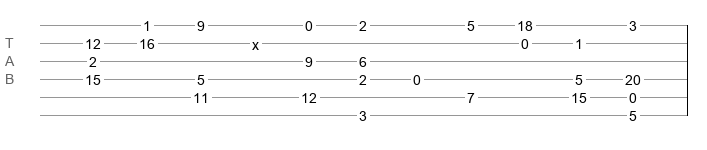0: (305, 18, 313, 28), (413, 72, 421, 82), (521, 36, 529, 46), (629, 90, 637, 100)
1: (143, 18, 151, 28), (575, 36, 583, 46)
11: (193, 90, 209, 100)
12: (85, 36, 101, 46), (301, 90, 317, 100)
15: (85, 72, 101, 82), (571, 90, 587, 100)
16: (139, 36, 155, 46)
18: (517, 18, 533, 28)
2: (89, 54, 97, 64), (359, 72, 367, 82), (359, 18, 367, 28)
20: (625, 72, 641, 82)
3: (359, 108, 367, 118), (629, 18, 637, 28)
5: (197, 72, 205, 82), (467, 18, 475, 28), (575, 72, 583, 82), (629, 108, 637, 118)
6: (359, 54, 367, 64)
7: (467, 90, 475, 100)
9: (197, 18, 205, 28), (305, 54, 313, 64)
x: (252, 37, 259, 45)
